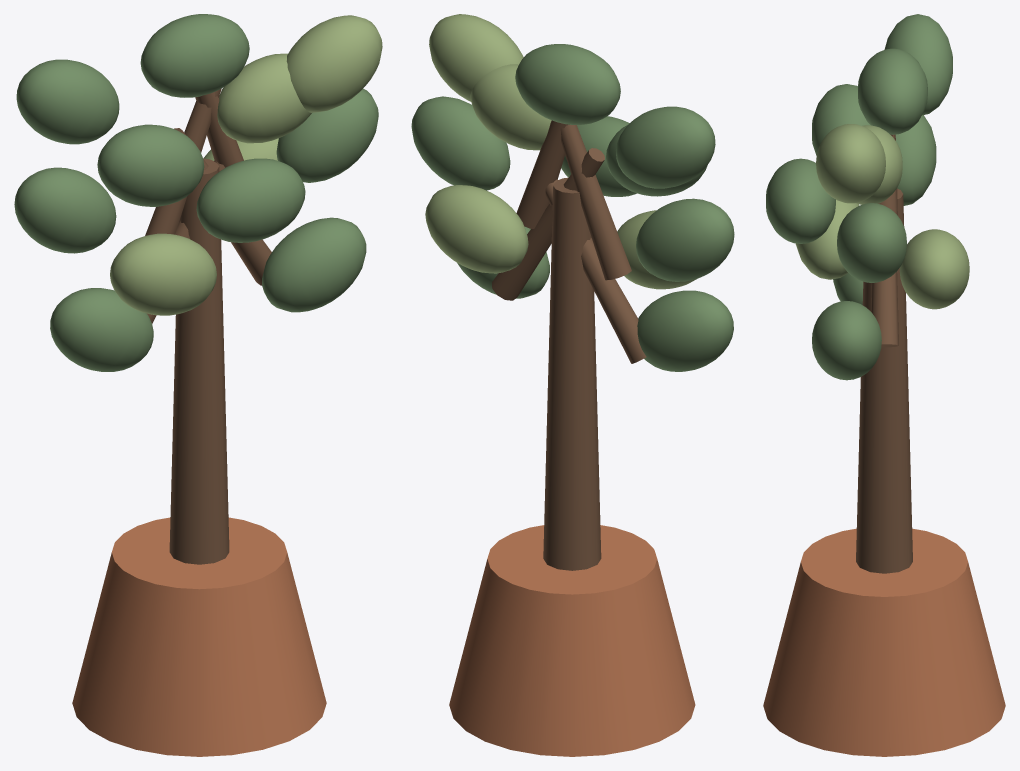
Rendered from ikea-fejka-fig.glb.
3 renders of one model, left to right at view 1: azimuth 30°, elevation 25°; view 2: azimuth 150°, elevation 25°; view 3: azimuth 270°, elevation 25°, orthographic. The views are drawn at different scales.
Parts seen in each view (by area): view 1: leaf (×8), pot, leafLight (×4), trunk (×4); view 2: pot, leaf (×8), trunk (×5), leafLight (×4); view 3: pot, leaf (×8), trunk (×2), leafLight (×4).
Part boxes in pixels (x1=…): leaf (×8): x1=14, y1=14, x2=378, y2=371; pot: x1=72, y1=517, x2=326, y2=756; leafLight (×4): x1=110, y1=15, x2=382, y2=315; trunk (×4): x1=145, y1=88, x2=271, y2=564; pot: x1=449, y1=525, x2=695, y2=756; leaf (×8): x1=411, y1=44, x2=734, y2=371; trunk (×5): x1=492, y1=120, x2=646, y2=570; leafLight (×4): x1=425, y1=14, x2=696, y2=289; pot: x1=763, y1=528, x2=1005, y2=756; leaf (×8): x1=766, y1=14, x2=952, y2=380; trunk (×2): x1=856, y1=188, x2=912, y2=573; leafLight (×4): x1=795, y1=124, x2=969, y2=309.
Size of the model in its own units: 0.9005 by 1.72 by 0.58.
